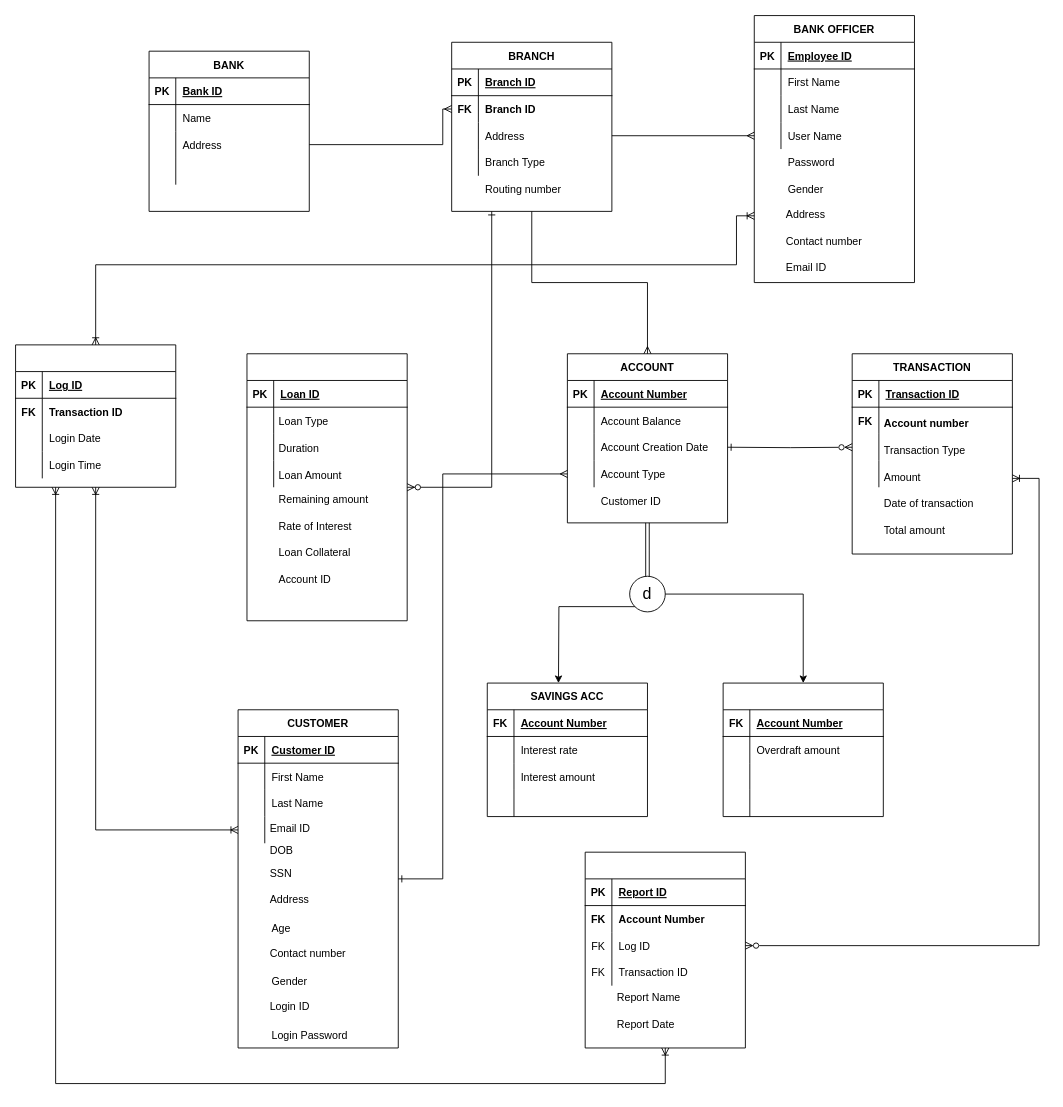
Some shapes in this 1063 by 1107 pixel diagram are drawn without their labels. The shapes that lost their labels are listed below. From the top down, each one's box as (x1, y1, x2, y2) in pixels, then its label:
(15, 344, 176, 487): LOGS
(246, 353, 407, 621): LOAN ACCOUNT
(722, 682, 883, 817): CHECKINGS ACC
(584, 851, 745, 1048): REPORTS
